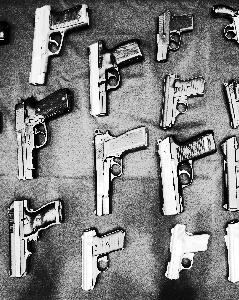handgun: (9, 85, 74, 186), (3, 192, 69, 284), (26, 1, 92, 91), (88, 122, 147, 218), (83, 38, 144, 118), (160, 127, 215, 214), (74, 224, 133, 292), (157, 219, 213, 283), (160, 72, 205, 130), (150, 7, 195, 63), (210, 0, 238, 48), (223, 135, 238, 212), (226, 218, 238, 288), (227, 74, 238, 132), (0, 15, 18, 49)
